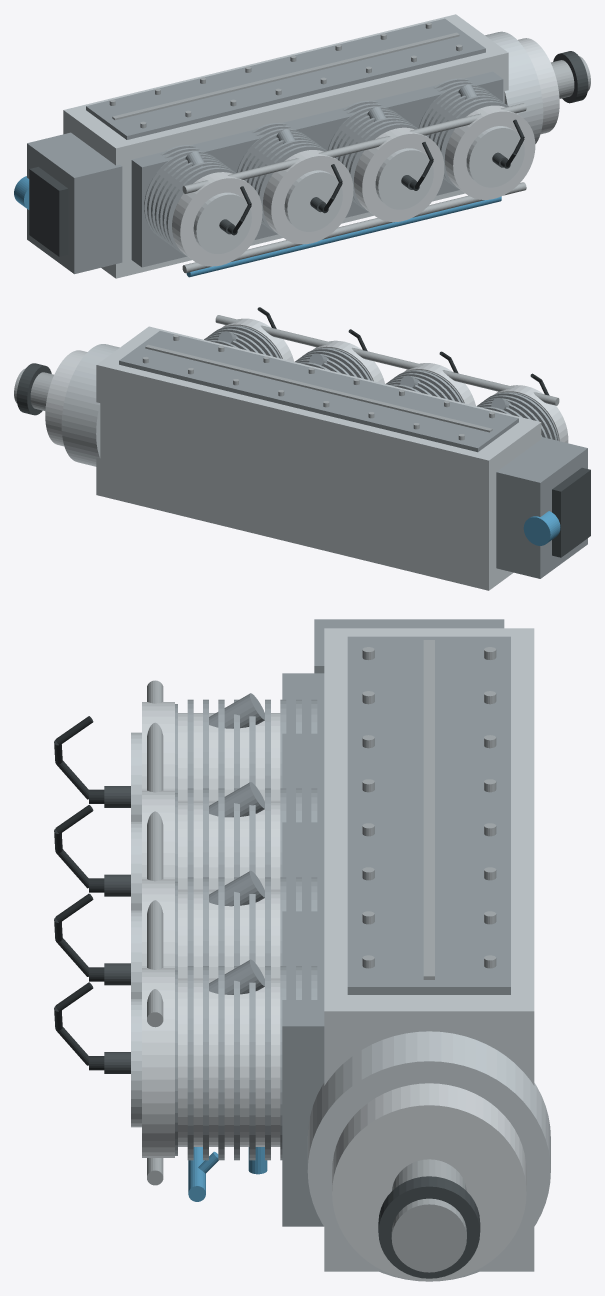
Rendered from aero_piston_engine.glb.
3 renders of one model, top to bottom at view 1: azimuth 30°, elevation 25°; view 2: azimuth 150°, elevation 25°; view 3: azimuth 270°, elevation 25°, orthographic. The views are drawn at different scales.
Parts seen in each view (by area): view 1: Side cover +1.33, Main crankcase, Rear accessory box, Top crankcase rail, Cylinder 3 head cap, Cylinder 2 head cap, Cylinder 4 head cap, Cylinder 1 head cap, Rear electronics cover, Front reduction housing, Cylinder 1 top cap, Cylinder 2 top cap (+25 smaller); view 2: Main crankcase, Side cover +1.33, Rear accessory box, Front reduction housing, Rear electronics cover, Upper rocker rail, Case seam +1.38, Front cover, Rear pump, Shaft end, Cylinder 1 head cap, Propeller shaft (+5 smaller); view 3: Side cover +1.33, Main crankcase, Front cover, Top crankcase rail, Front reduction housing, Cylinder 4 barrel, Cylinder 4 head cap, Propeller shaft, Cylinder 2 barrel, Cylinder 3 barrel, Cylinder 1 barrel, Upper rocker rail (+20 smaller).
Boxes of the visible parts, x1,y1,x2,y2 form: Side cover +1.33: [86, 18, 485, 139]; Main crankcase: [63, 14, 508, 278]; Rear accessory box: [27, 132, 122, 274]; Top crankcase rail: [131, 71, 503, 267]; Cylinder 3 head cap: [354, 127, 444, 222]; Cylinder 2 head cap: [263, 150, 353, 244]; Cylinder 4 head cap: [445, 105, 535, 199]; Cylinder 1 head cap: [172, 172, 262, 266]; Rear electronics cover: [29, 167, 68, 256]; Front reduction housing: [485, 31, 543, 143]; Cylinder 1 top cap: [193, 192, 251, 253]; Cylinder 2 top cap: [284, 170, 342, 231]; Main crankcase: [96, 326, 541, 590]; Side cover +1.33: [119, 331, 518, 452]; Rear accessory box: [496, 437, 587, 578]; Front reduction housing: [61, 344, 119, 466]; Rear electronics cover: [552, 467, 590, 557]; Upper rocker rail: [215, 315, 559, 405]; Case seam +1.38: [145, 344, 492, 432]; Front cover: [45, 350, 87, 446]; Rear pump: [523, 511, 560, 545]; Shaft end: [16, 363, 51, 415]; Cylinder 1 head cap: [495, 385, 568, 442]; Propeller shaft: [14, 368, 53, 410]; Side cover +1.33: [347, 636, 510, 994]; Main crankcase: [324, 628, 534, 1271]; Front cover: [332, 1083, 526, 1281]; Top crankcase rail: [282, 673, 324, 1226]; Front reduction housing: [307, 1031, 550, 1281]; Cylinder 4 barrel: [178, 979, 280, 1146]; Cylinder 4 head cap: [142, 968, 174, 1157]; Propeller shaft: [391, 1159, 466, 1272]; Cylinder 2 barrel: [178, 801, 280, 890]; Cylinder 3 barrel: [178, 890, 280, 979]; Cylinder 1 barrel: [178, 713, 280, 801]; Upper rocker rail: [147, 680, 163, 1027].
Bounding box in the file's own units: 11.44 × 2.92 × 4.49.
